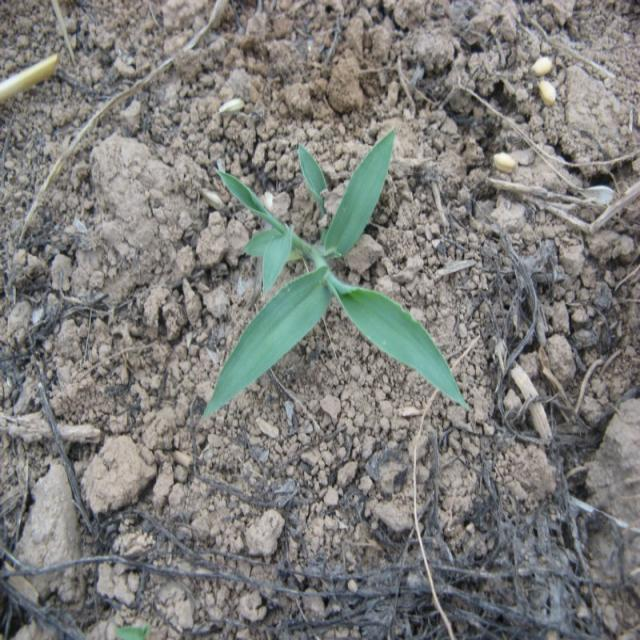bg: (209, 139, 477, 411)
